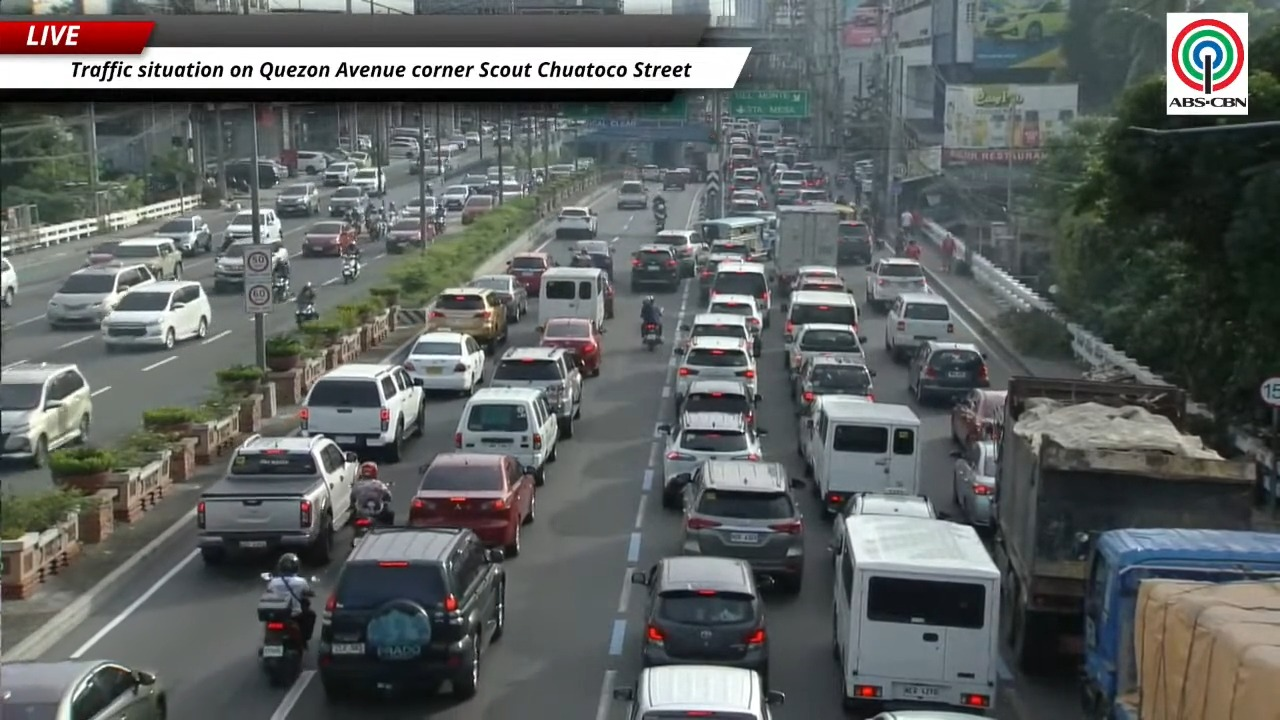car: (318, 527, 505, 701), (196, 435, 359, 565), (678, 459, 805, 594), (632, 556, 768, 681), (409, 452, 536, 556), (300, 363, 425, 461), (658, 410, 764, 508), (454, 387, 559, 484), (0, 659, 168, 719), (0, 364, 92, 466), (489, 347, 582, 438), (101, 280, 211, 350), (46, 262, 154, 329), (832, 488, 944, 546), (426, 287, 508, 354), (403, 332, 485, 395), (675, 336, 758, 397), (908, 341, 988, 404), (792, 353, 875, 413), (885, 293, 954, 360), (786, 323, 865, 378), (783, 291, 859, 348), (709, 262, 771, 328), (952, 440, 998, 528), (539, 318, 602, 376), (677, 313, 760, 357), (680, 380, 759, 426), (950, 389, 1006, 447), (866, 258, 927, 310), (705, 294, 762, 346), (113, 237, 182, 279), (469, 274, 528, 322), (650, 229, 701, 277), (630, 244, 681, 291), (155, 215, 212, 255), (213, 240, 254, 292), (698, 253, 740, 303), (301, 221, 357, 256), (507, 253, 553, 294), (384, 216, 431, 253), (275, 182, 321, 217), (837, 221, 874, 264), (575, 240, 614, 280), (783, 265, 840, 291), (327, 184, 369, 217), (555, 206, 597, 238), (461, 194, 495, 224), (84, 240, 121, 267), (350, 168, 385, 196), (224, 211, 253, 242), (617, 180, 647, 209), (296, 150, 332, 174), (793, 276, 847, 292), (440, 185, 473, 211), (0, 258, 17, 306), (402, 195, 436, 219), (323, 162, 355, 186), (491, 179, 524, 201), (387, 137, 420, 158), (662, 168, 690, 190), (603, 274, 615, 319), (775, 185, 801, 205), (461, 173, 488, 192), (729, 199, 761, 215), (798, 188, 829, 204), (347, 150, 370, 168), (641, 164, 660, 181), (465, 132, 480, 146)
motorcycle: (257, 592, 311, 686), (352, 499, 386, 546), (295, 303, 319, 328), (341, 255, 360, 283), (642, 323, 661, 351), (272, 275, 290, 302), (433, 216, 446, 236), (655, 217, 666, 232)
truck: (992, 376, 1254, 674), (1082, 528, 1279, 719), (1111, 580, 1279, 719), (772, 203, 840, 294)
